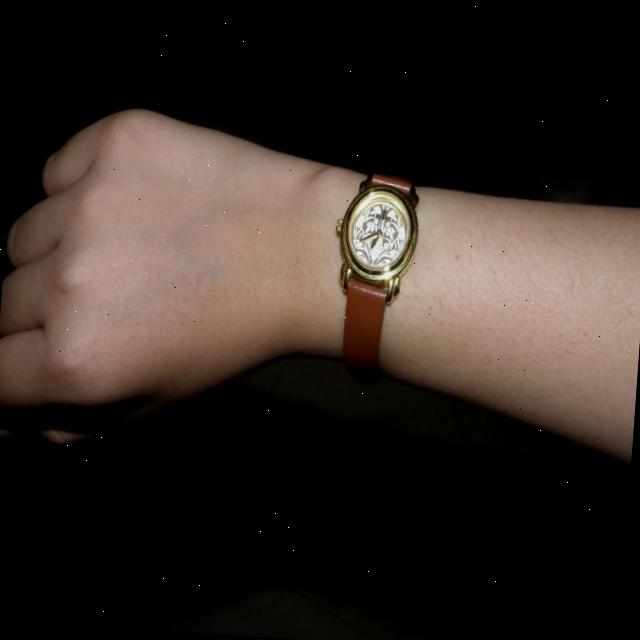Wrist watch: (327, 169, 422, 387)
